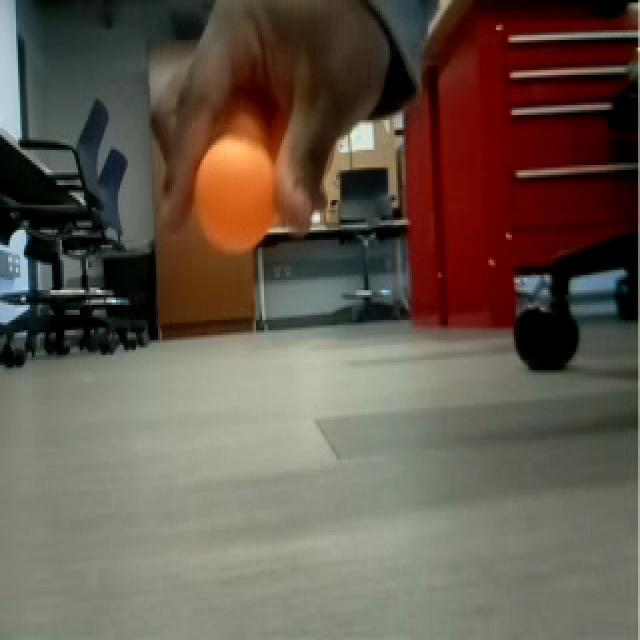oball: (188, 133, 284, 263)
